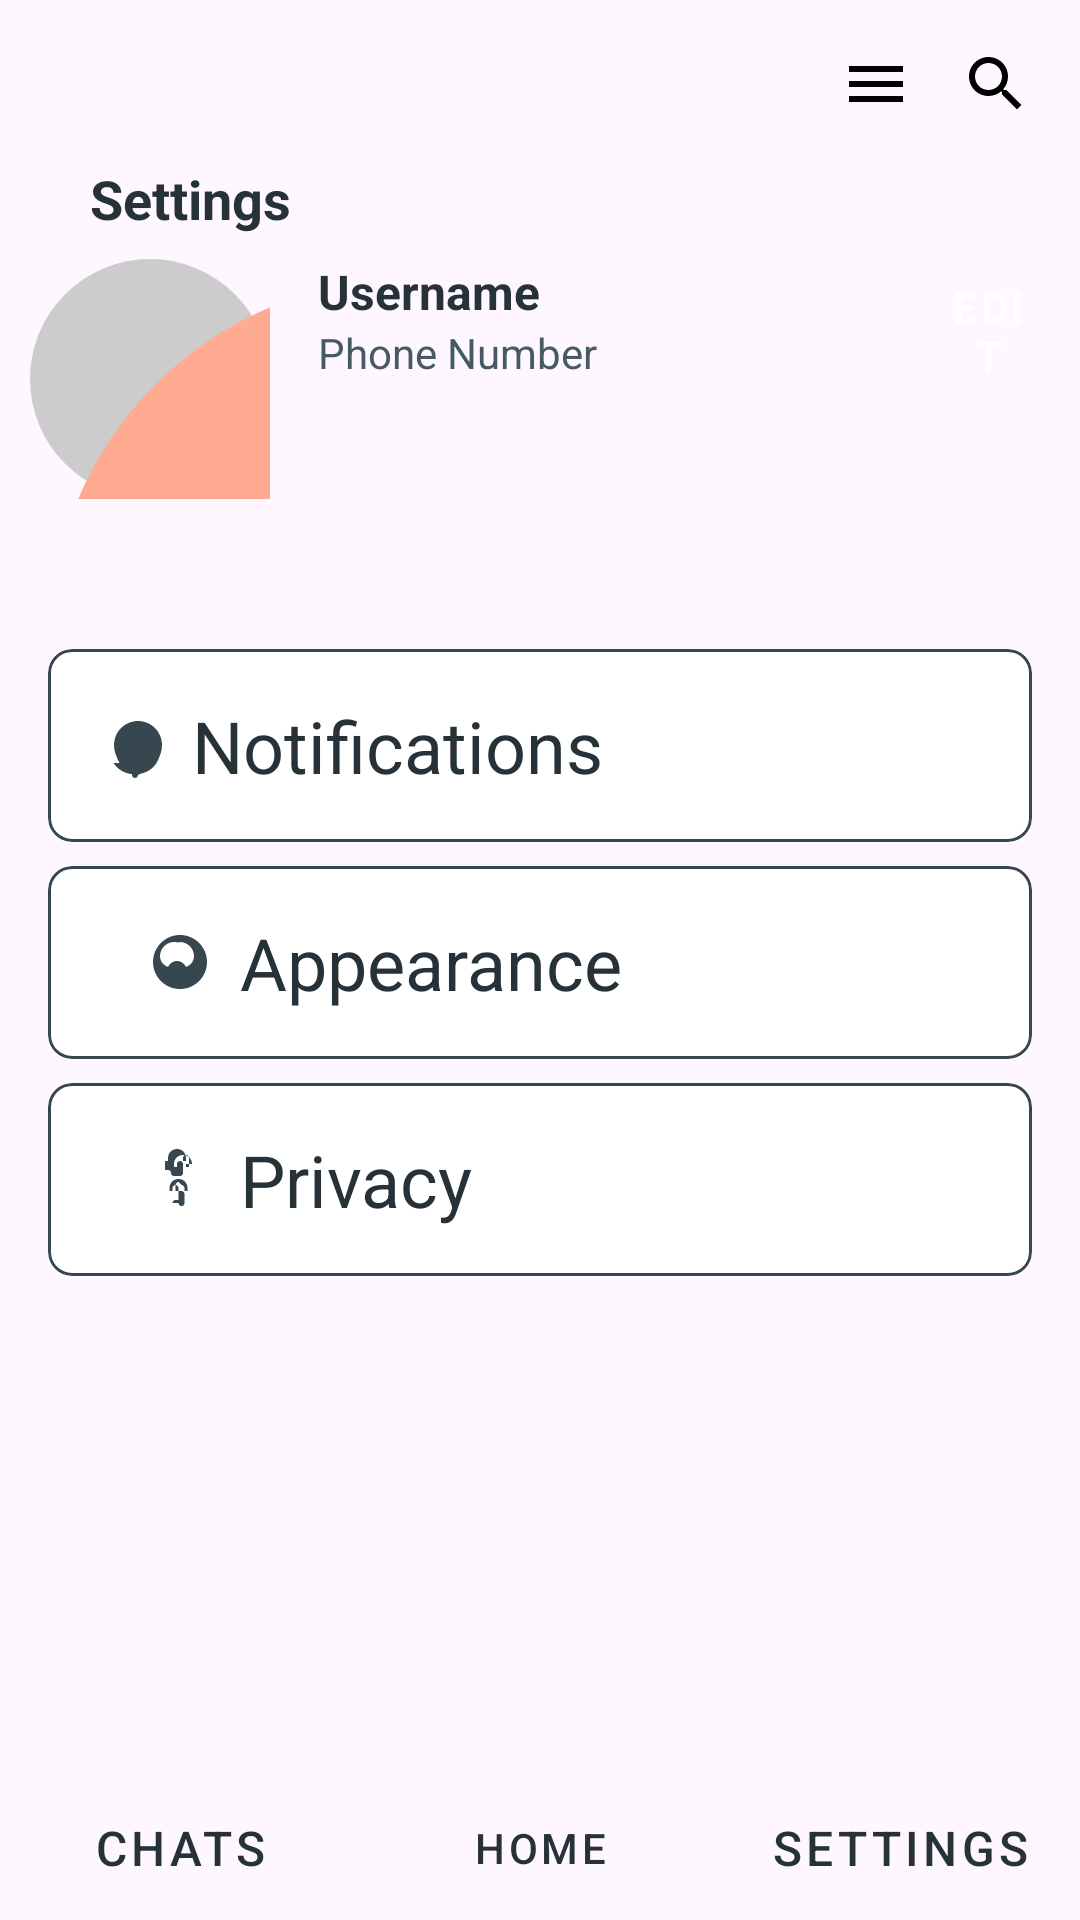

Where icons sit on this 1080×1920 app screen, as (x1, y1, x2, y2):
menu: (849, 66, 903, 102)
search: (969, 57, 1021, 109)
